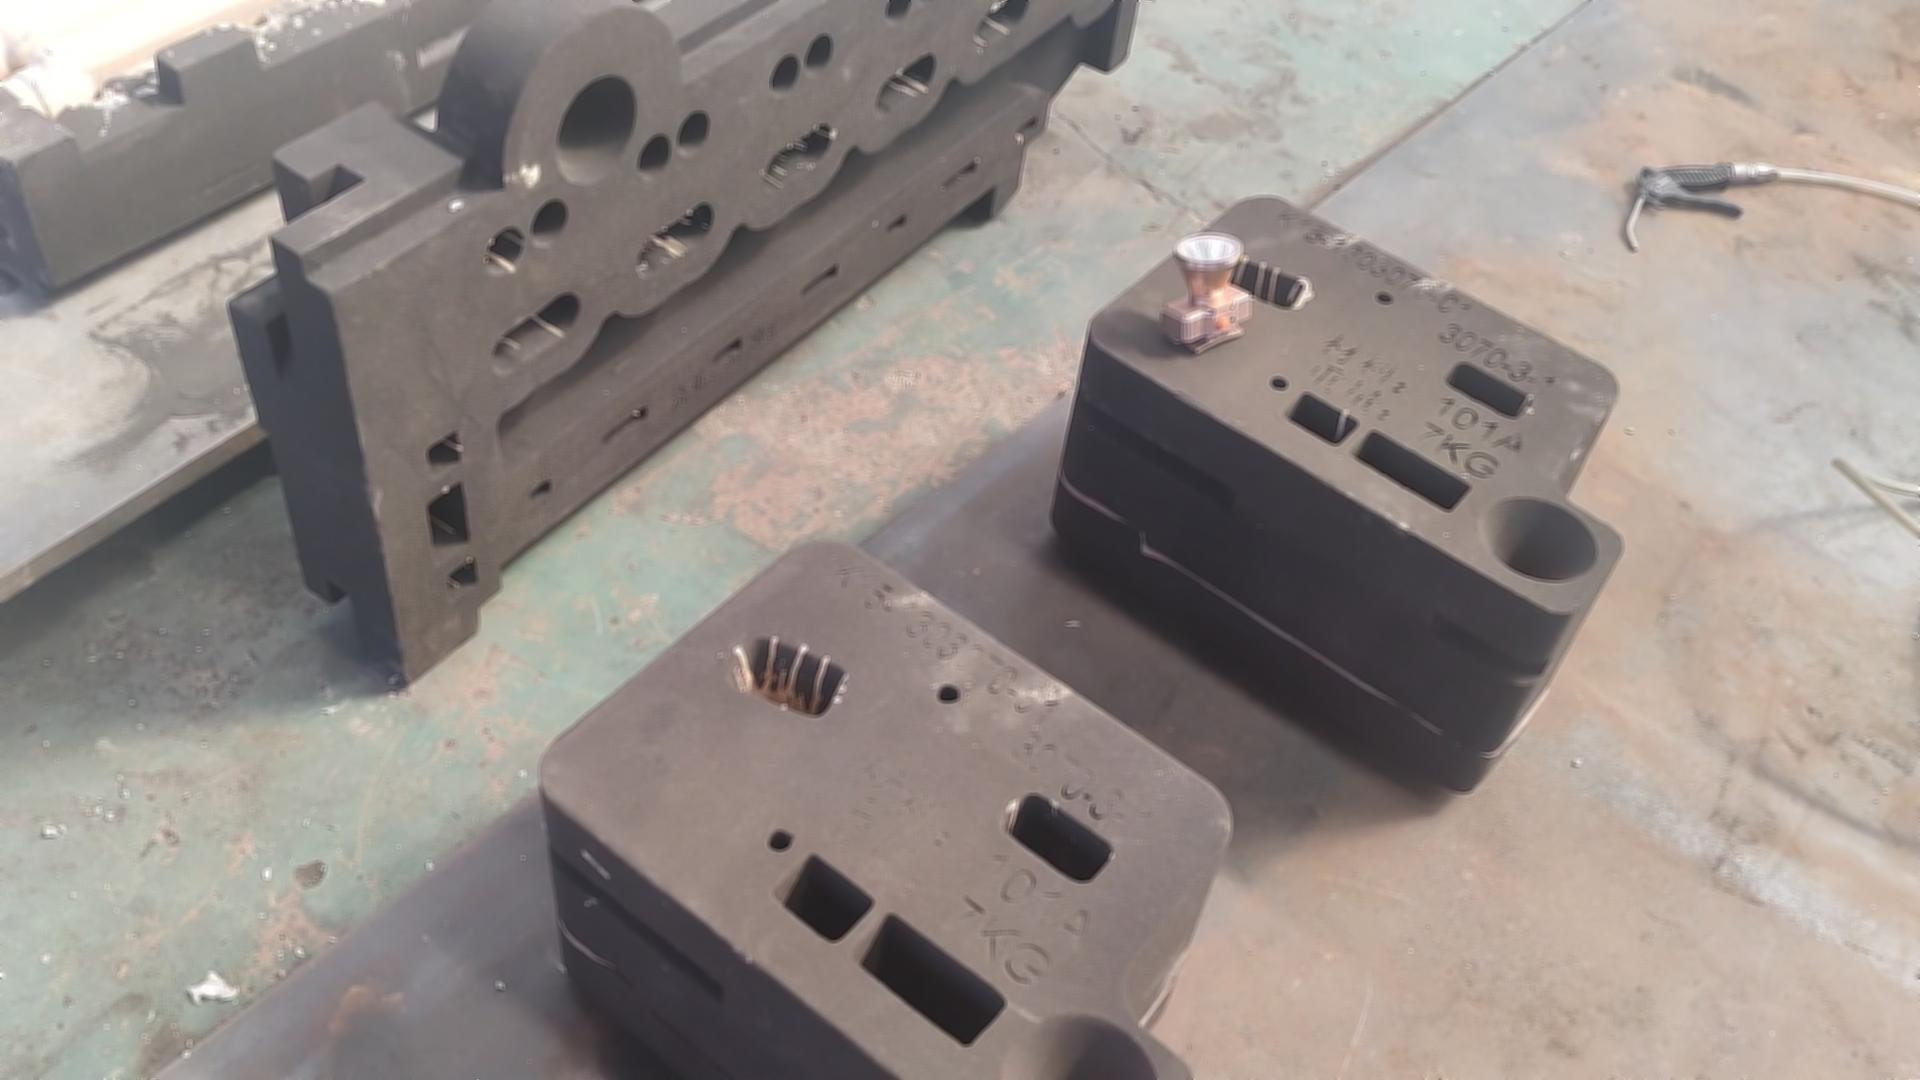pouring hole: (1000, 1014, 1156, 1080), (1480, 496, 1600, 582), (556, 75, 638, 187)
